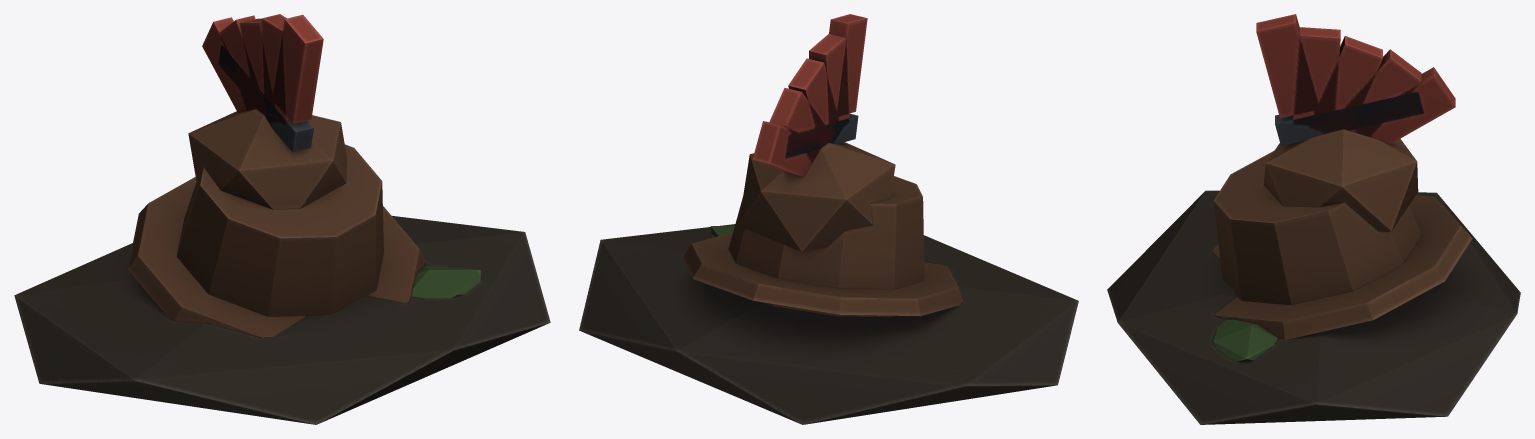
Rendered from sign_captain_helm.glb.
The picture shows the model from 3 angles, left to right: view 1: azimuth 30°, elevation 25°; view 2: azimuth 150°, elevation 25°; view 3: azimuth 270°, elevation 25°; orthographic projection. The views are drawn at different scales.
Parts seen in each view (by area): view 1: sign_captain_helm; view 2: sign_captain_helm; view 3: sign_captain_helm.
Boxes of the visible parts, x1,y1,x2,y2 form: sign_captain_helm: [14, 14, 550, 424]; sign_captain_helm: [579, 14, 1078, 424]; sign_captain_helm: [1107, 14, 1520, 424].
Size of the model in its own units: 1.32 by 0.8986 by 1.01.
Materials: 1 (1 with a texture image).
